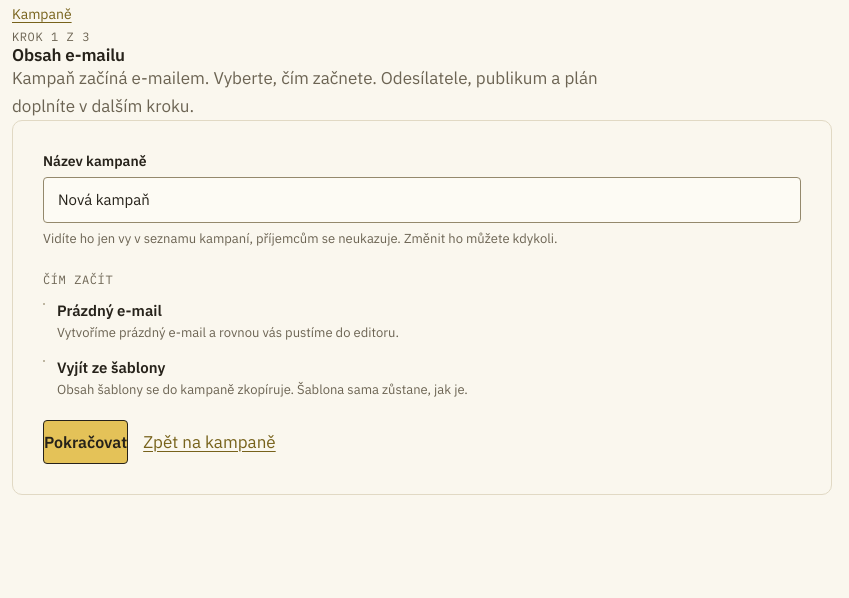
Test: krok 1: obsah e-mailu › neúspěch se nespolkne a na nikam se nepřesměruje
The width and height of the screenshot is (849, 598).
Click the button with test id "new-campaign-continue" at (86, 442), box [43,420,128,464]
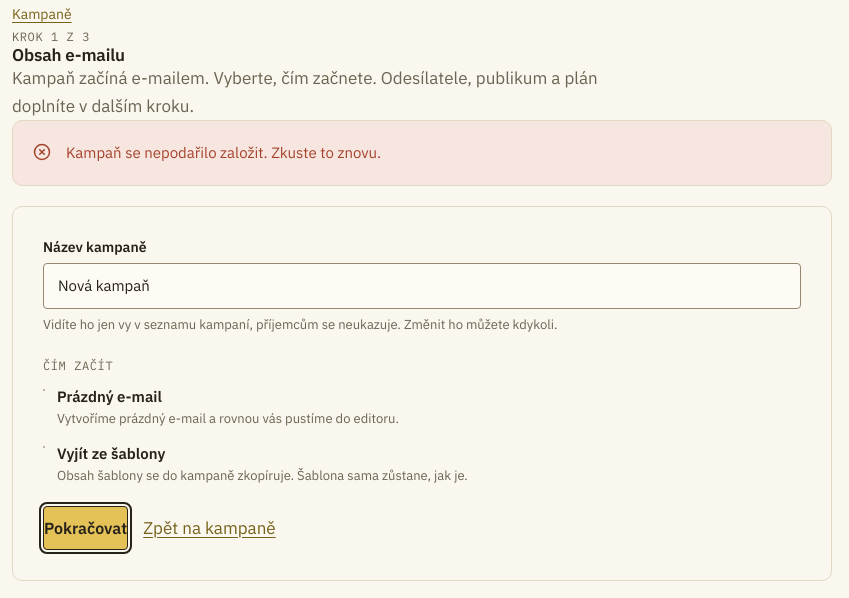
Result: the message "Kampaň se nepodařilo založit. Zkuste to znovu." is shown at [12,120,832,186]
